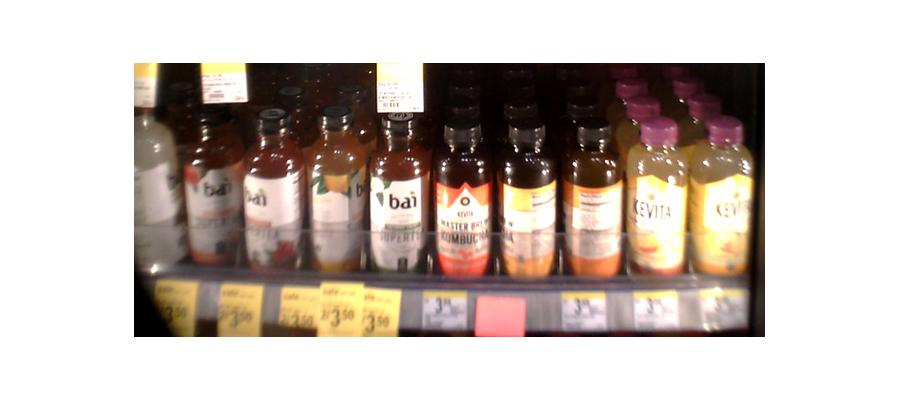bottle: (367, 107, 431, 274), (626, 118, 690, 281), (243, 109, 305, 277), (691, 116, 753, 284), (306, 103, 365, 277), (496, 121, 558, 281), (434, 113, 493, 279), (184, 103, 243, 269), (565, 118, 624, 282), (131, 85, 179, 272)
